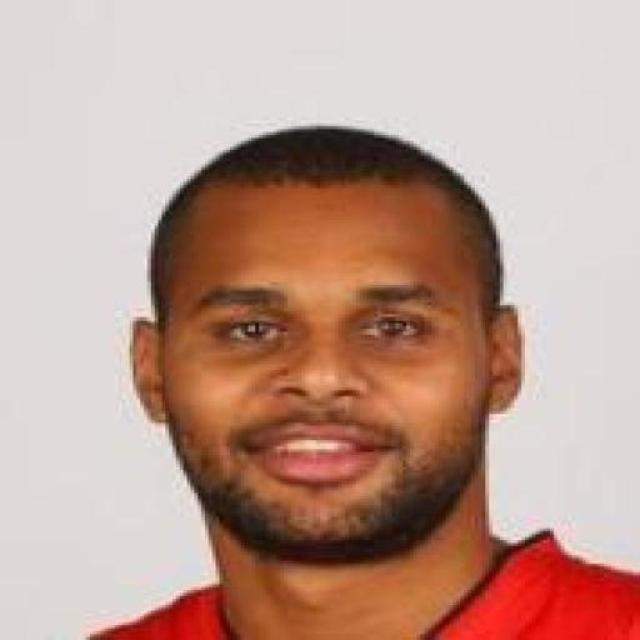bareface: (130, 156, 498, 536)
